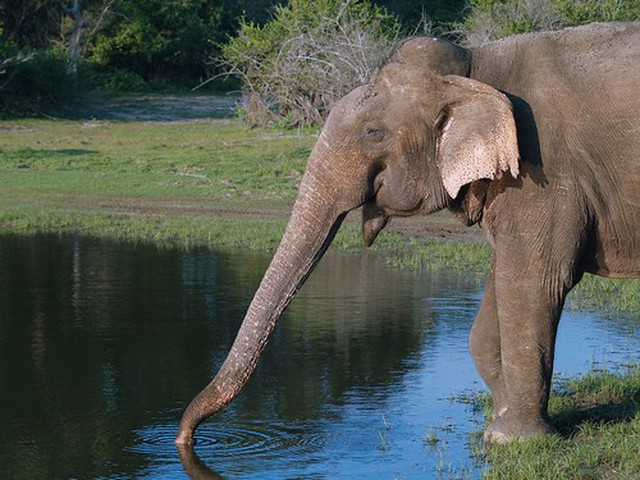Elephant: (172, 21, 640, 440)
